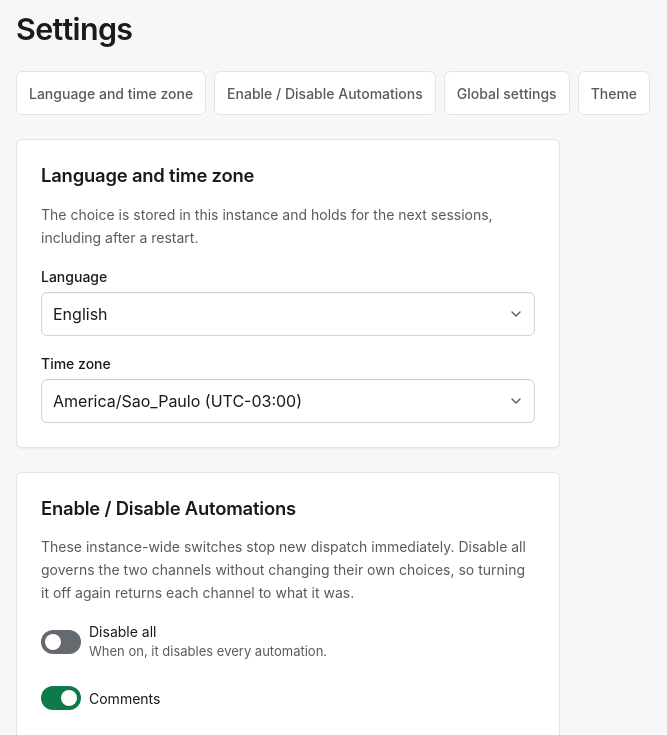
Scenario: REQ-322: the master switch governs the two channels › turns the two channels off and out of reach when it goes on
Click the checkbox labelled "Disable all" at (184, 641), box [41, 623, 327, 659]
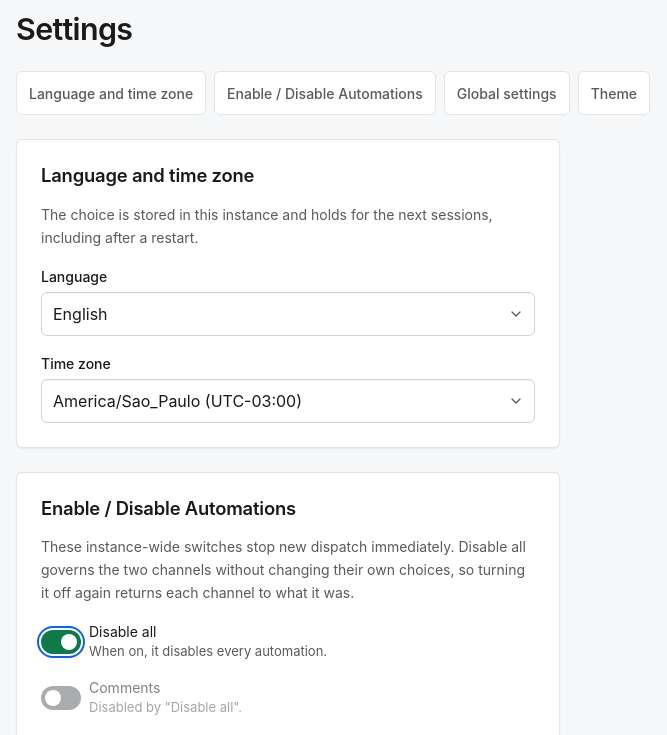
Expected: the checkbox labelled "Disable all" is checked, [41, 623, 327, 659]
Expected: the checkbox labelled "Comments" is not checked, [41, 679, 242, 715]
Expected: the checkbox labelled "Comments" is disabled, [41, 679, 242, 715]
